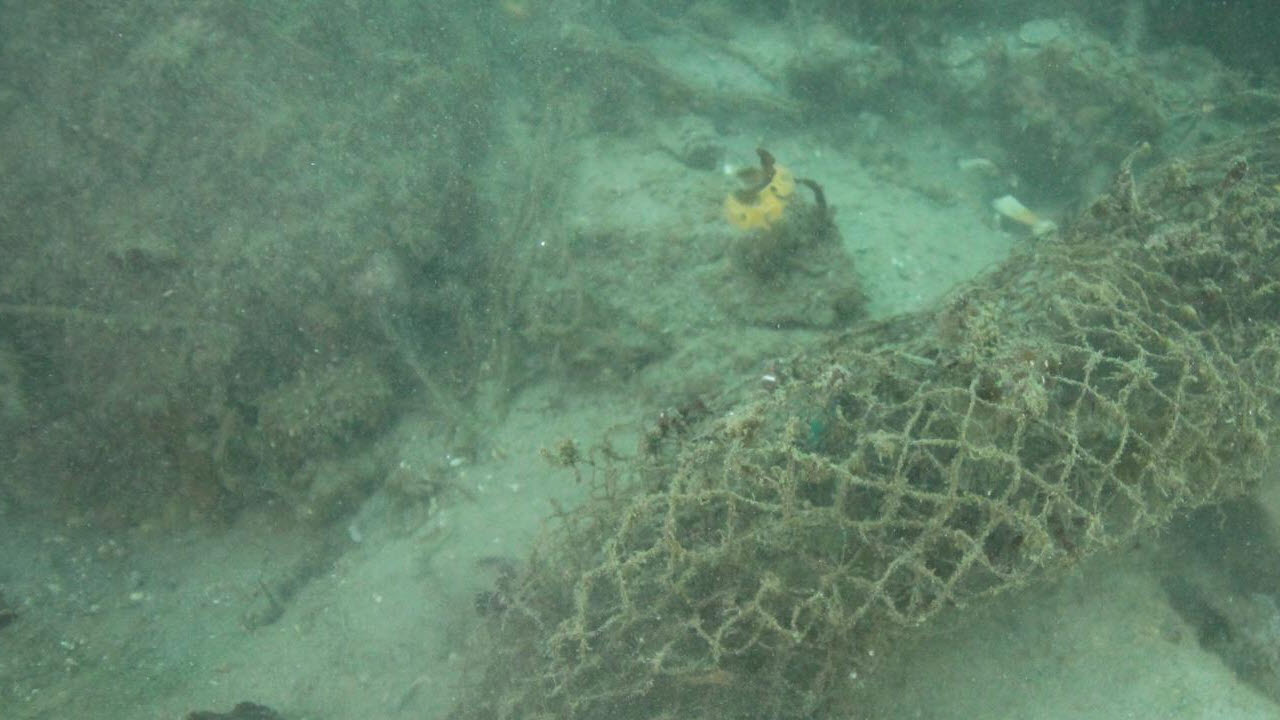fish net: (544, 114, 1280, 720)
